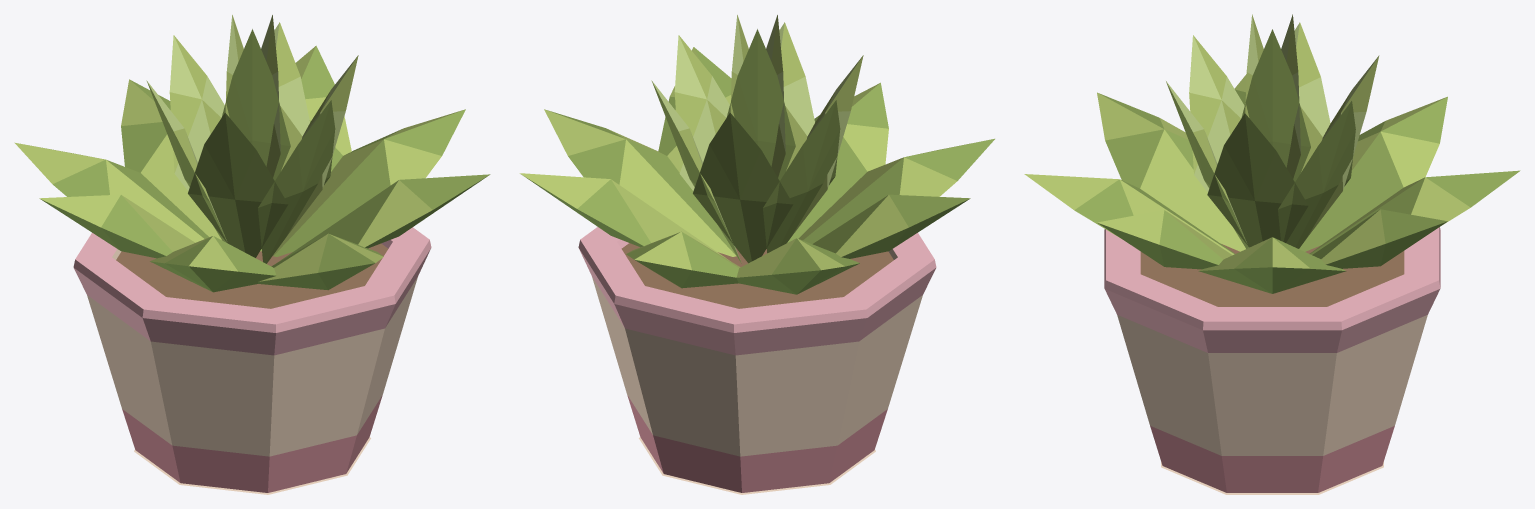
File: 01_Planta_Suculenta_Repisa.obj
3 renders of one model, left to right at view 1: azimuth 30°, elevation 25°; view 2: azimuth 150°, elevation 25°; view 3: azimuth 270°, elevation 25°, orthographic.
Parts seen in each view (by area): view 1: Maceta_Repisa, Hojas_Exteriores, Hojas_Interiores, Hojas_Centro, Maceta_Repisa_Tierra, Maceta_Repisa_Base; view 2: Maceta_Repisa, Hojas_Exteriores, Hojas_Interiores, Hojas_Centro, Maceta_Repisa_Tierra, Maceta_Repisa_Base; view 3: Maceta_Repisa, Hojas_Exteriores, Hojas_Interiores, Hojas_Centro, Maceta_Repisa_Tierra, Maceta_Repisa_Base.
Boxes of the visible parts, bbox=[...] form: Maceta_Repisa: bbox=[73, 227, 431, 492]; Hojas_Exteriores: bbox=[14, 45, 490, 292]; Hojas_Interiores: bbox=[146, 22, 358, 263]; Hojas_Centro: bbox=[222, 15, 290, 180]; Maceta_Repisa_Tierra: bbox=[116, 243, 388, 308]; Maceta_Repisa_Base: bbox=[134, 437, 370, 494]; Maceta_Repisa: bbox=[578, 227, 936, 492]; Hojas_Exteriores: bbox=[519, 47, 994, 294]; Hojas_Interiores: bbox=[651, 22, 863, 263]; Hojas_Centro: bbox=[727, 15, 795, 180]; Maceta_Repisa_Tierra: bbox=[621, 243, 893, 308]; Maceta_Repisa_Base: bbox=[639, 437, 875, 494]; Maceta_Repisa: bbox=[1104, 227, 1440, 492]; Hojas_Exteriores: bbox=[1024, 74, 1520, 293]; Hojas_Interiores: bbox=[1166, 22, 1379, 248]; Hojas_Centro: bbox=[1241, 14, 1310, 181]; Maceta_Repisa_Tierra: bbox=[1140, 244, 1404, 306]; Maceta_Repisa_Base: bbox=[1161, 461, 1383, 494].
Size of the model in its own units: 0.38 by 0.362 by 0.38.
